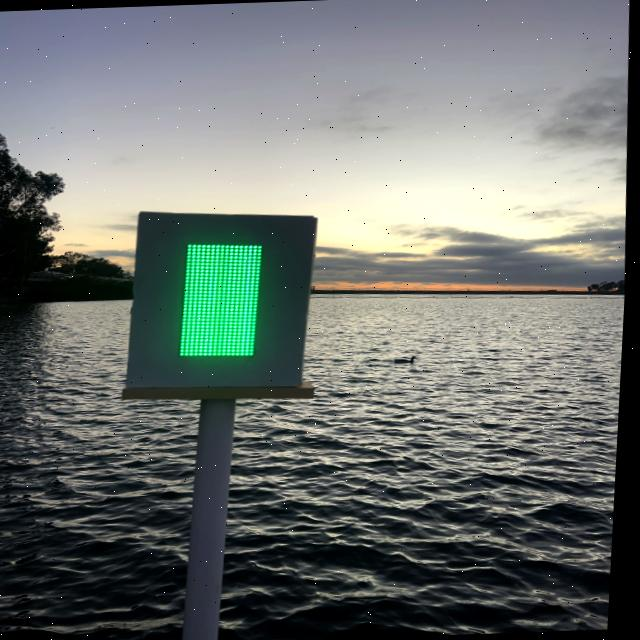led: (149, 218, 304, 384)
